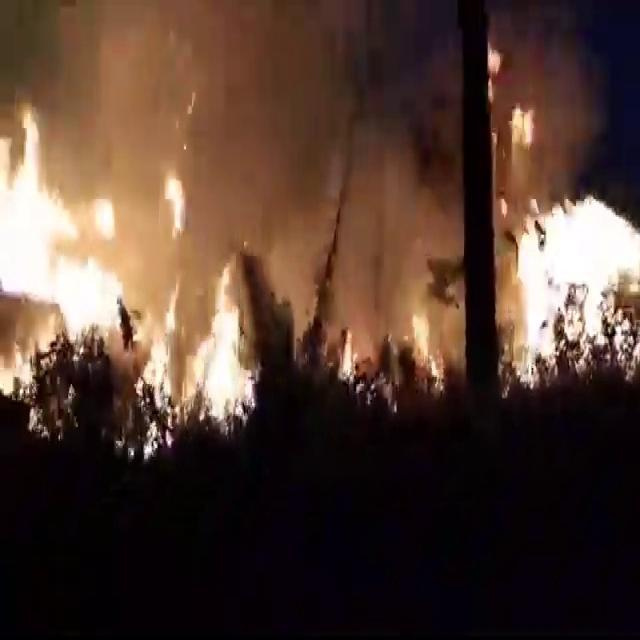Fire: (522, 208, 620, 350), (0, 150, 66, 284), (202, 332, 247, 421), (68, 268, 116, 328)
